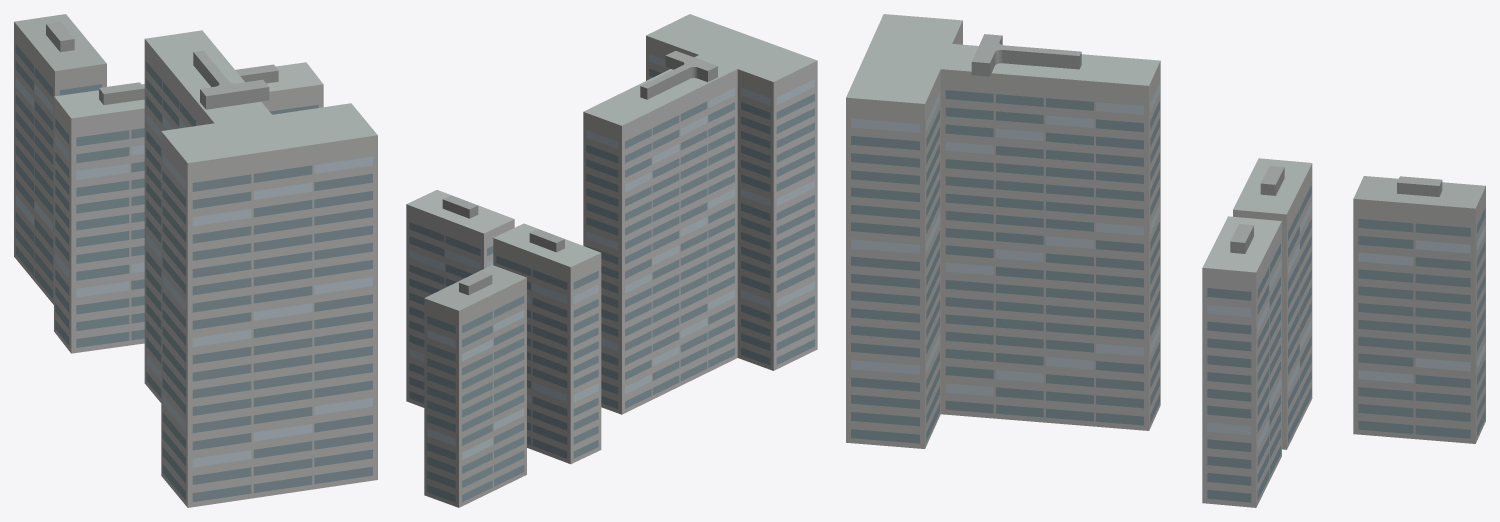
File: apt-a15010201.glb
3 renders of one model, left to right at view 1: azimuth 30°, elevation 25°; view 2: azimuth 150°, elevation 25°; view 3: azimuth 270°, elevation 25°, orthographic. The views are drawn at different scales.
Parts seen in each view (by area): view 1: apt-a15010201; view 2: apt-a15010201; view 3: apt-a15010201.
Boxes of the visible parts, x1,y1,x2,y2 form: apt-a15010201: (14, 14, 377, 507); apt-a15010201: (406, 14, 817, 507); apt-a15010201: (846, 14, 1485, 507).
Size of the model in its own units: 56.99 by 64 by 104.
